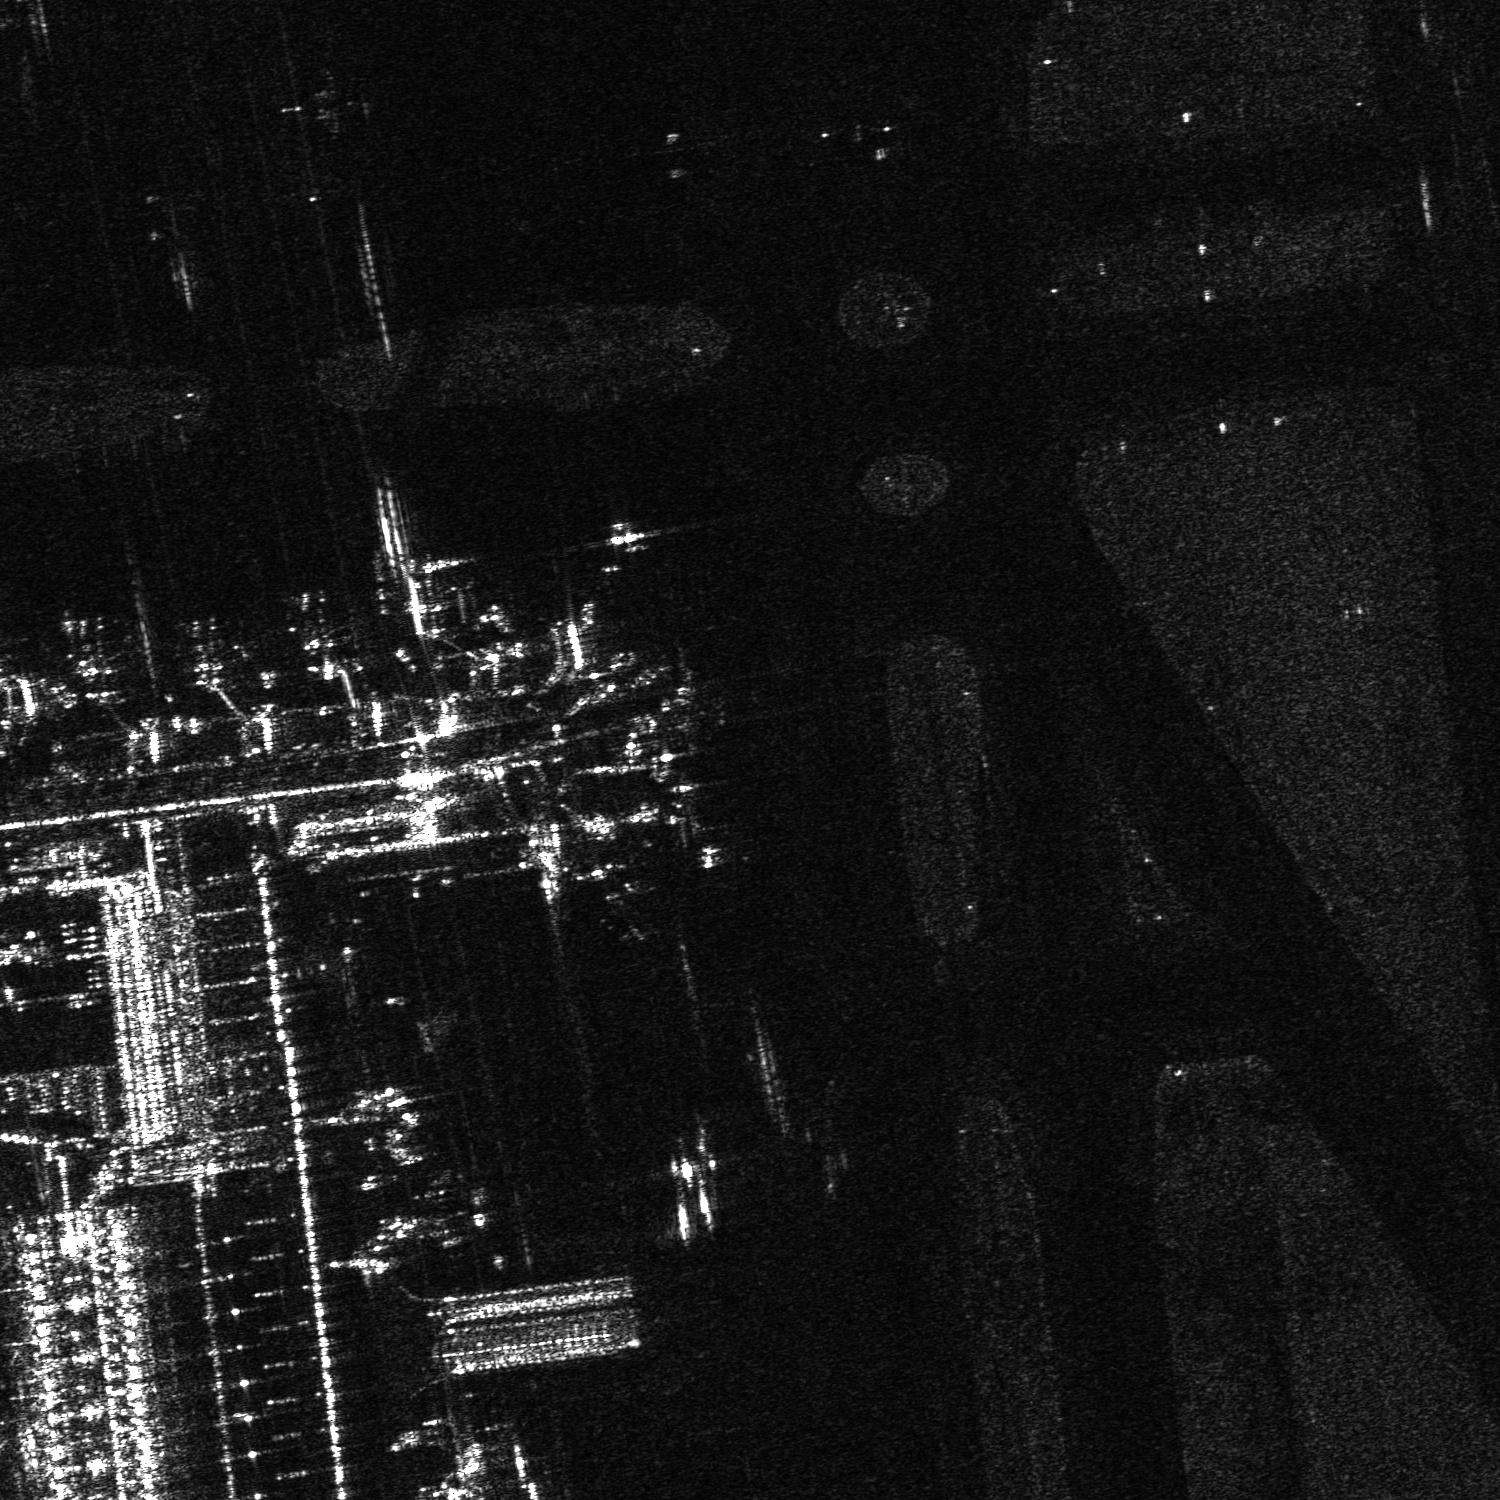A220: (168, 611, 249, 688), (277, 587, 349, 659), (55, 615, 124, 687)
